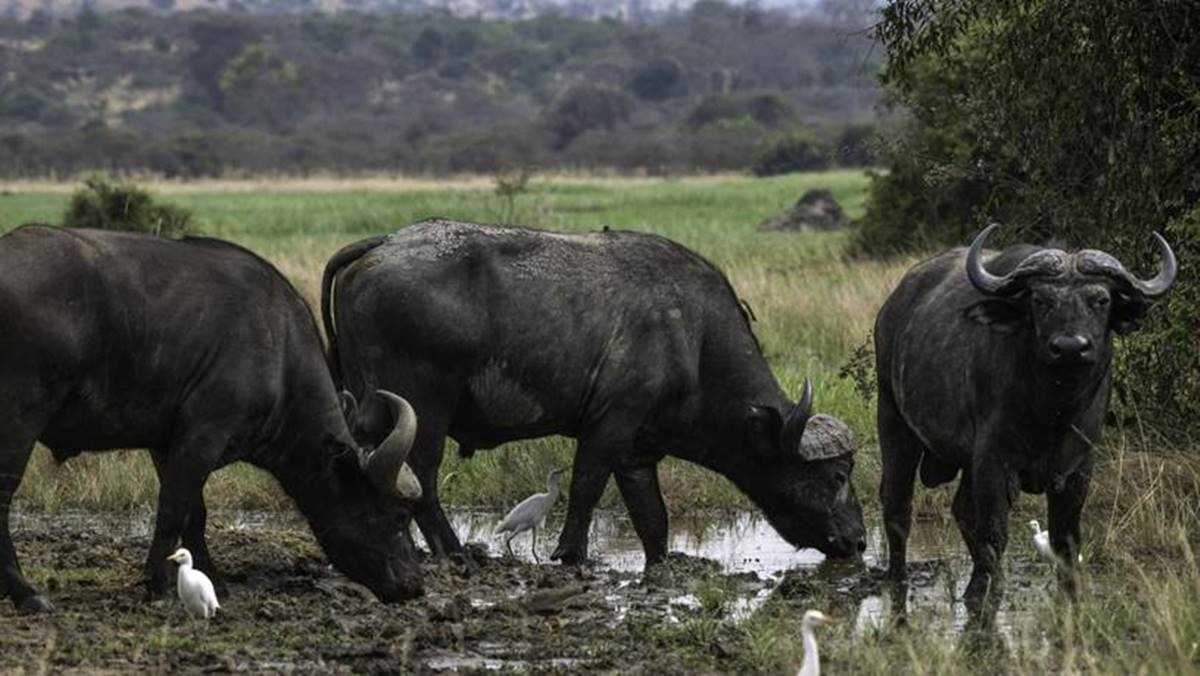bird: (489, 462, 571, 564), (165, 541, 225, 634), (778, 607, 846, 673)
buffalo: (316, 218, 874, 591), (1, 219, 435, 620), (865, 217, 1187, 648)
